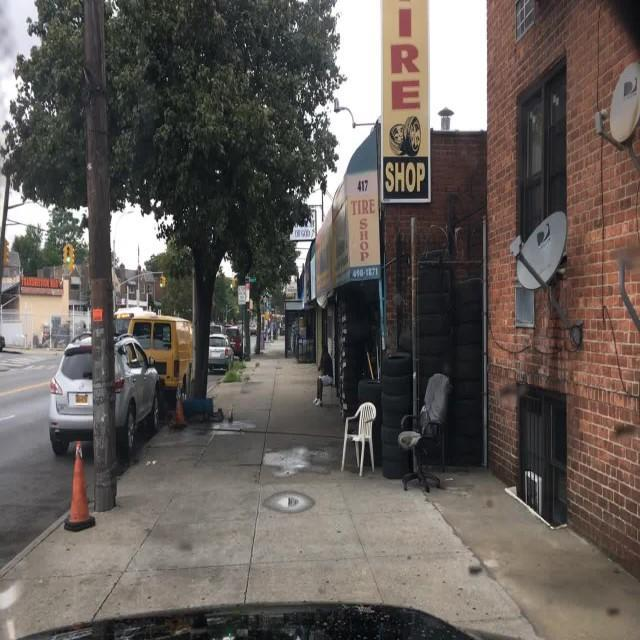normal: (50, 334, 166, 460), (73, 313, 209, 408), (208, 334, 233, 373)
